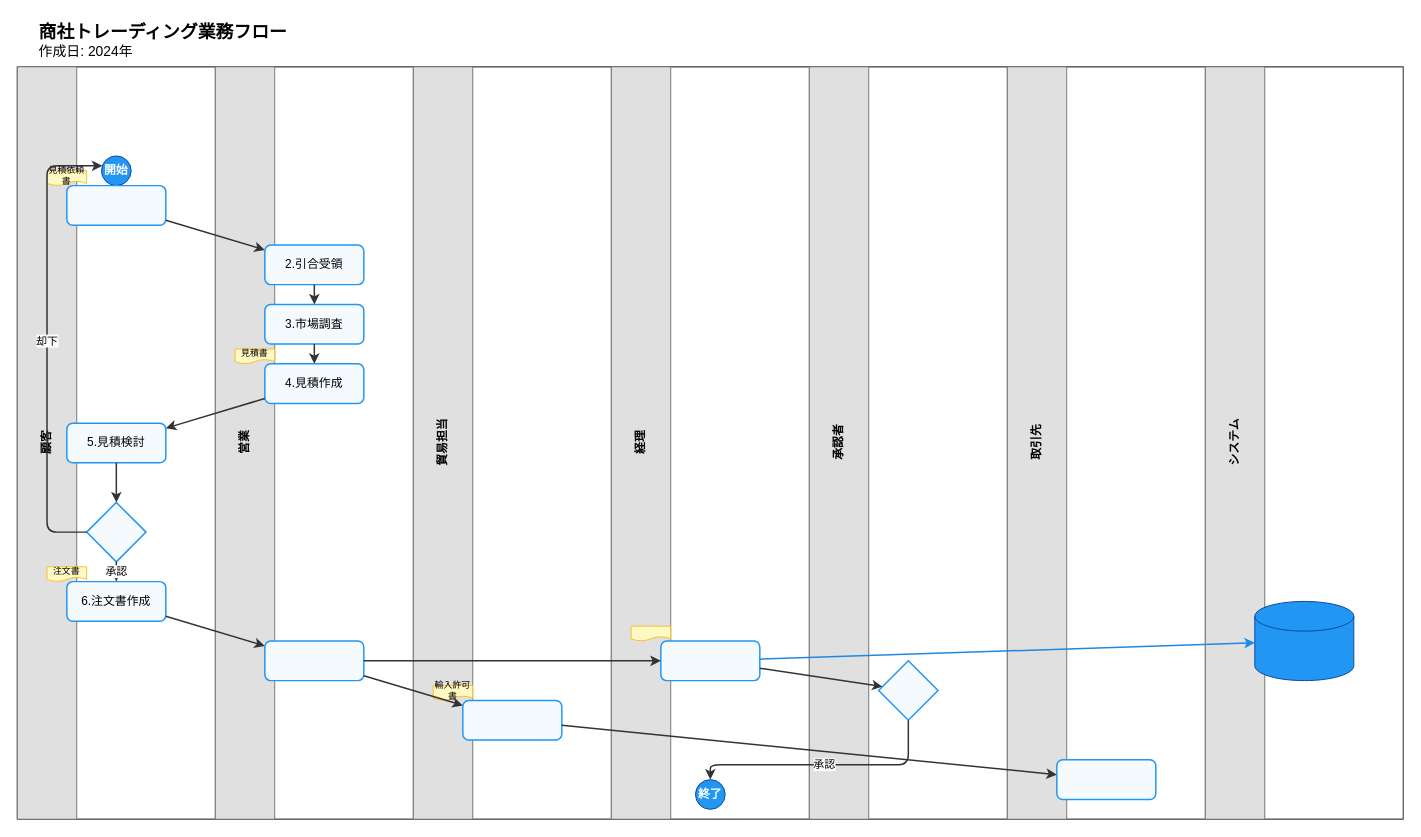
Some shapes in this 1421 by 837 pixel diagram are drawn without their labels. Here are the shapes that lost their labels. From the top down, the centre of each, then its label:
(116,205): 1.引合依頼
(115,531): 発注?
(650,633): 請求書
(1304,640): 取引DB
(314,660): 7.注文受領
(710,660): 10.請求処理
(907,690): 承認?
(512,719): 8.輸入手続き
(1106,779): 9.商品準備
